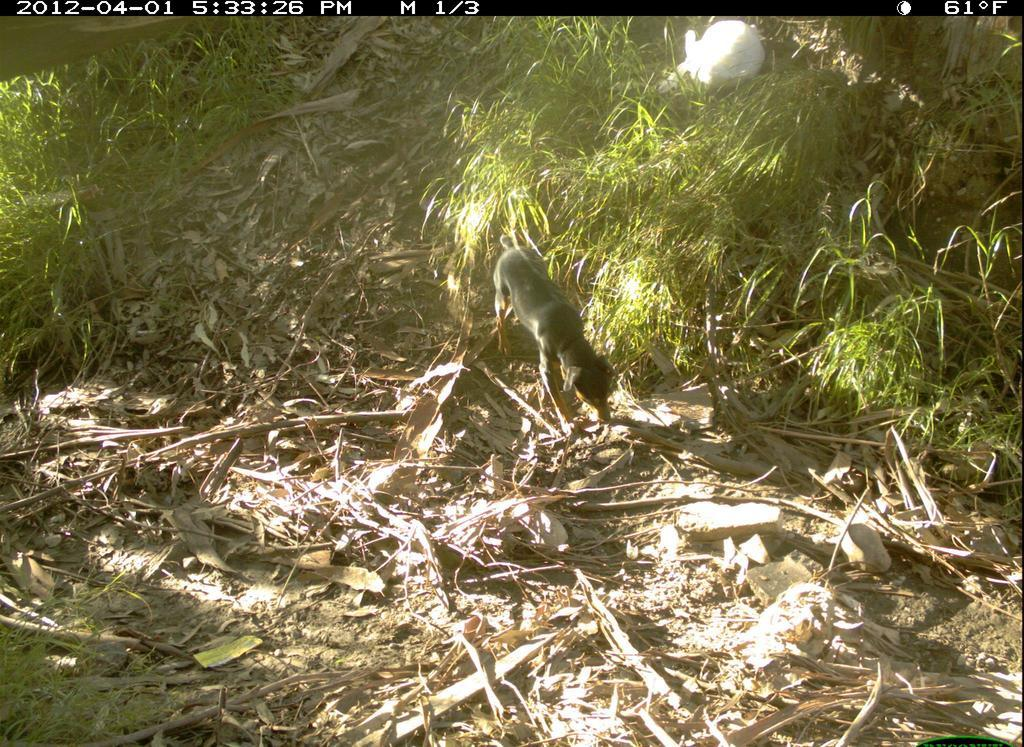dog: (475, 225, 632, 449)
